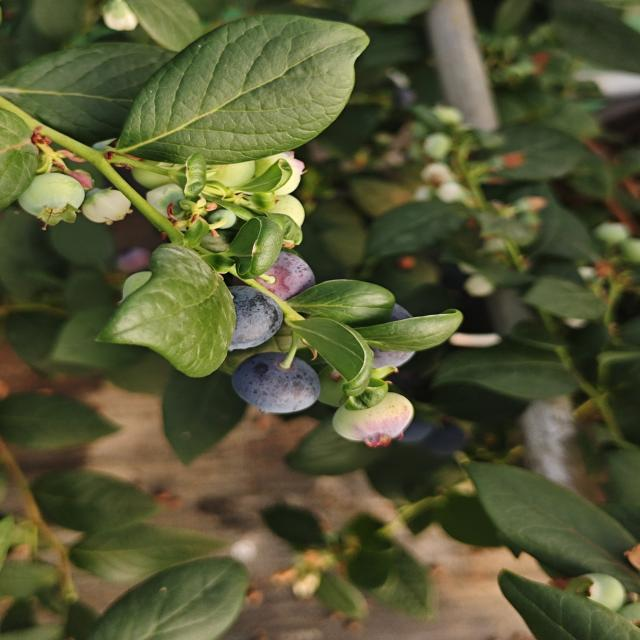ripe: (336, 298, 430, 372), (228, 351, 324, 416), (223, 284, 286, 352), (241, 249, 317, 303)
